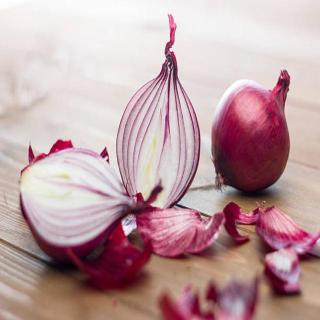Bawang Merah: (210, 67, 298, 193)
